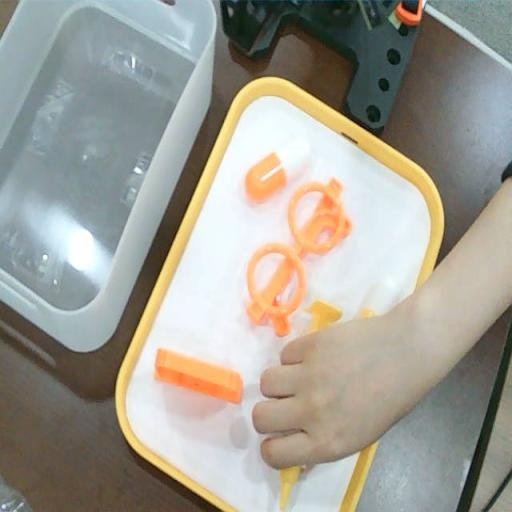hospital: (252, 315, 417, 467)
